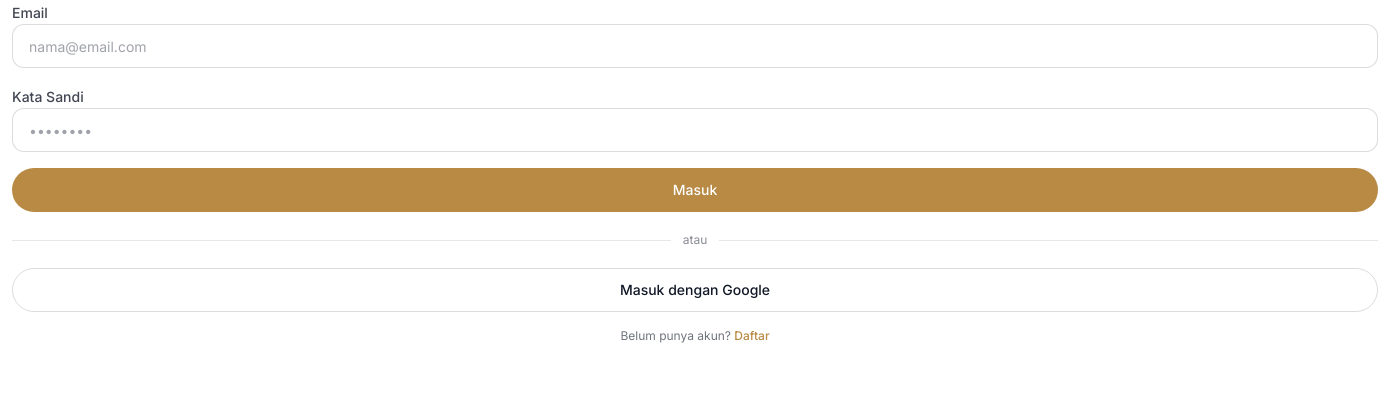
it: AuthForm login mode › falls back to a generic message when the error is not an Error instance
In the field labelled "Email": (695, 46) [12, 24, 1378, 68], type "user@example.com"
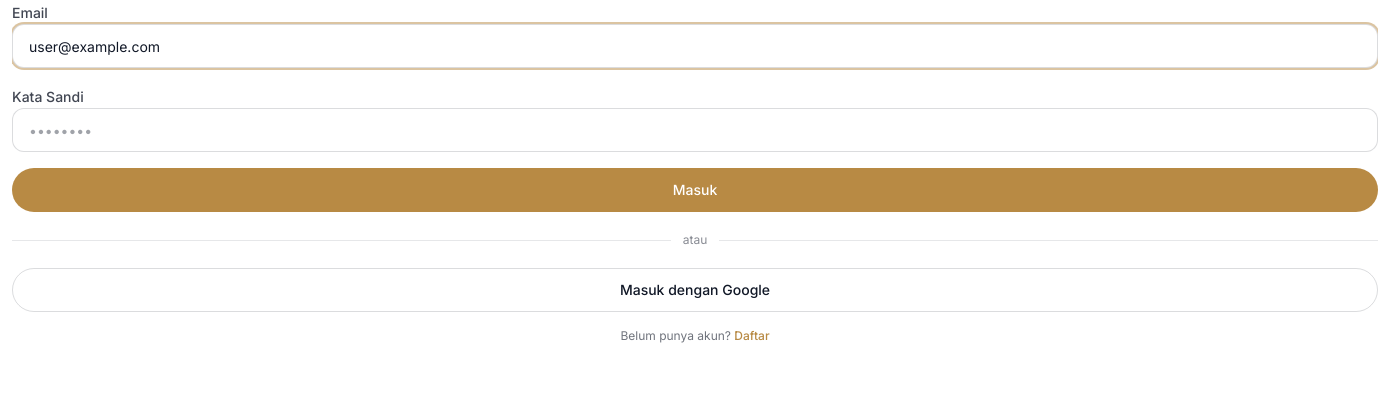
In the password field labelled "Kata Sandi": (695, 130) [12, 108, 1378, 152], type "password123"
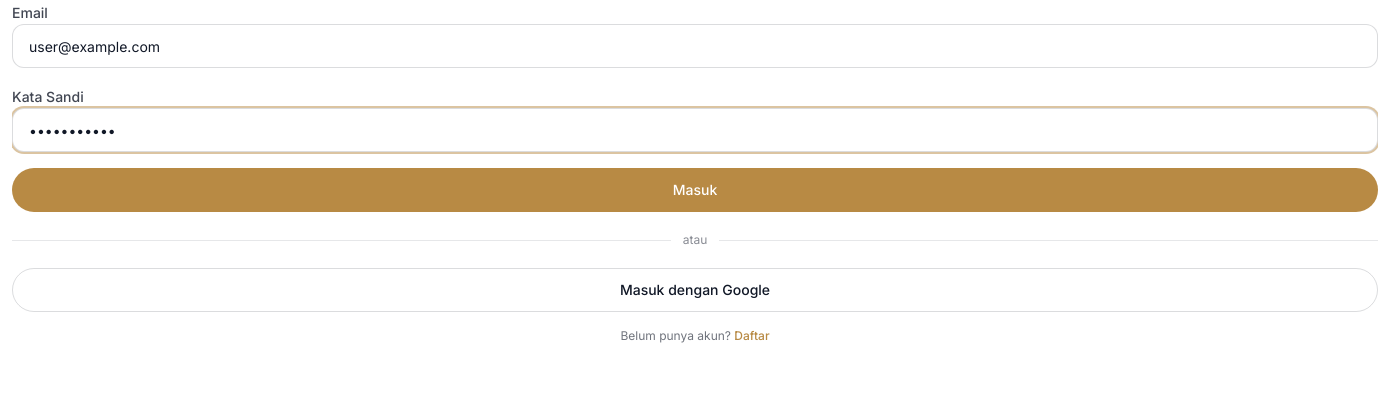
Click the button "Masuk": click(695, 190) [12, 168, 1378, 212]
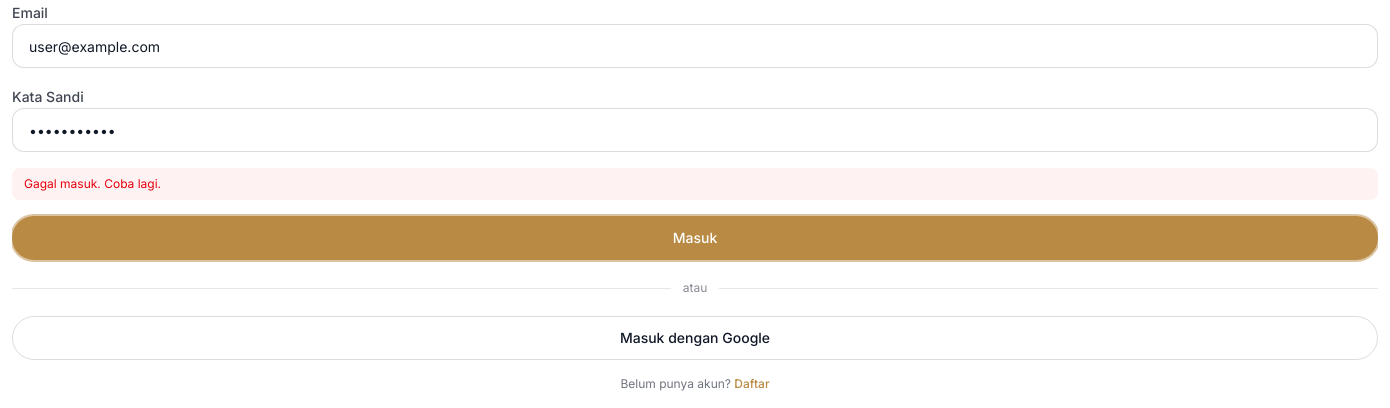
Expected: the text "Gagal masuk. Coba lagi." is shown, [12, 168, 1378, 200]
